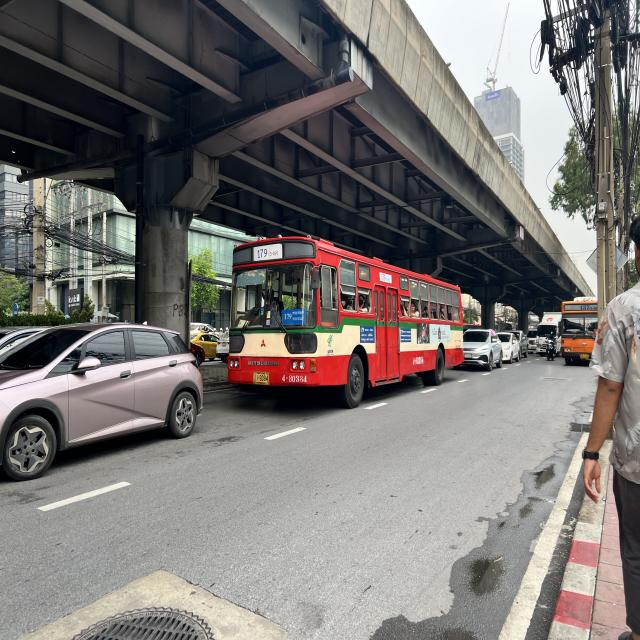BMTA-bus: (225, 235, 465, 408), (560, 296, 602, 373)
Bus-Line-Number: (251, 243, 282, 262), (579, 304, 597, 310)
Destination-Sign-Normal: (280, 308, 307, 325)
